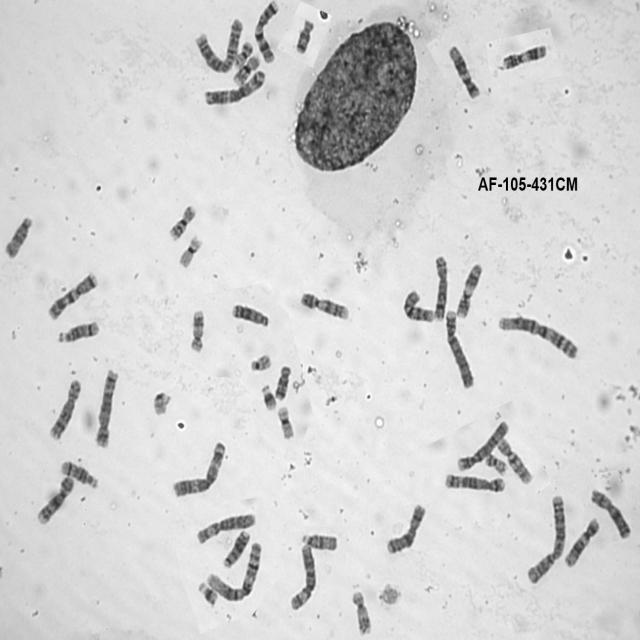A1: (496, 311, 580, 362), (204, 539, 263, 603)
A2: (524, 492, 568, 586), (192, 15, 245, 74)
A3: (170, 438, 228, 499), (202, 66, 267, 107)
B4: (454, 417, 510, 473), (442, 307, 476, 390)
B5: (93, 366, 120, 448), (443, 471, 507, 493)
C10: (495, 436, 533, 485), (400, 286, 436, 324)
C11: (454, 259, 484, 320), (500, 41, 548, 71)
C12: (446, 41, 482, 100), (562, 515, 600, 568)
C6: (194, 509, 257, 546), (287, 542, 316, 612)
C7: (45, 270, 100, 322), (254, 0, 282, 65)
C8: (47, 375, 82, 442), (431, 250, 450, 324)
C9: (36, 474, 76, 520), (298, 289, 351, 321)
D13: (220, 526, 250, 570), (230, 300, 270, 328)
D14: (56, 316, 101, 346), (60, 457, 100, 488)
D15: (2, 213, 34, 260), (299, 530, 340, 552)
E16: (167, 202, 197, 242), (230, 51, 262, 88)
E17: (350, 587, 372, 636), (188, 306, 206, 355)
E18: (292, 16, 316, 55), (272, 362, 292, 401)
F19: (176, 232, 203, 269), (276, 404, 296, 441)
F20: (231, 40, 254, 69), (482, 451, 508, 476)
G21: (196, 578, 219, 608), (259, 382, 278, 412)
G22: (150, 387, 172, 417), (248, 350, 273, 372)
X: (384, 501, 428, 556), (588, 486, 632, 540)
